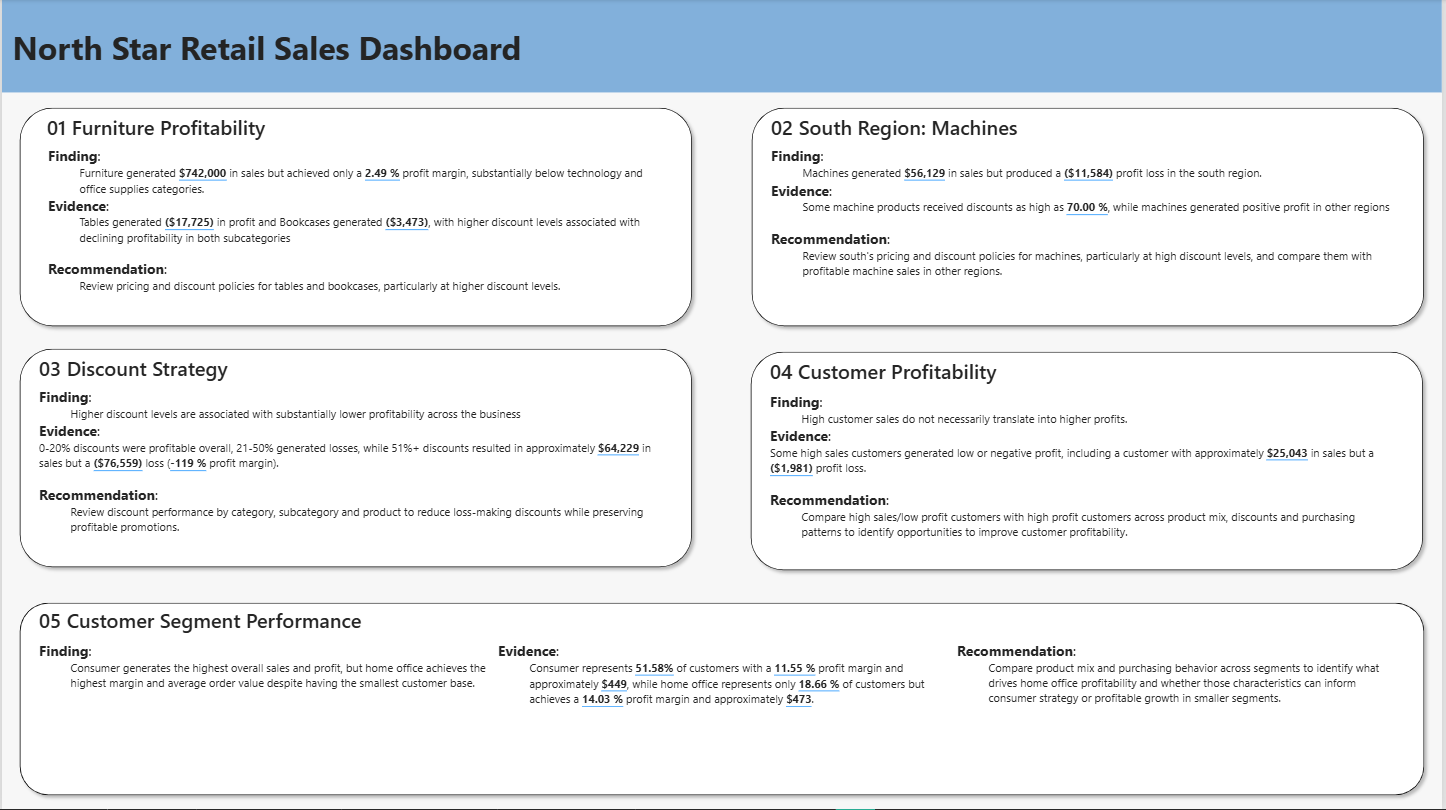

The dashboard page shown, as its layout file describes it:
{"tool":"powerbi","page":{"name":"Insights & Recommendations","canvas":[1920,1080],"ordinal":4},"visuals":[{"type":"shape","box":[0,0,1919.7,124.6],"z":0},{"type":"textbox","box":[0,35,706.7,75],"z":1000},{"type":"group","id":"g1","title":"Furniture Insight","box":[15,136.1,914.4,309.4],"z":2000},{"type":"group","id":"g2","title":"South Region Insight","box":[990.6,136.1,914.4,309.4],"z":3000},{"type":"group","id":"g3","title":"Discount Insight","box":[14.7,457.9,914.4,309.4],"z":4000},{"type":"group","id":"g4","title":"Customer Profitability Insight","box":[989.9,460.9,914.4,309.4],"z":4500},{"type":"shape","box":[14.7,795.8,1890.6,274.5],"z":5000,"group":"g5"},{"type":"textbox","box":[49,808.9,824.6,48],"z":6000,"group":"g5"},{"type":"textbox","box":[49,856.3,599.7,199.4],"z":7000,"group":"g5"},{"type":"shape","box":[15,136.1,914.4,309.4],"z":7125,"group":"g1"},{"type":"shape","box":[990.6,136.1,914.4,309.4],"z":7125,"group":"g2"},{"type":"shape","box":[14.7,457.9,914.4,309.4],"z":7125,"group":"g3"},{"type":"shape","box":[989.9,460.9,914.4,309.4],"z":7125,"group":"g4"},{"type":"textbox","box":[60.8,152.3,824.6,48],"z":7250,"group":"g1"},{"type":"textbox","box":[1025.3,152.5,824.6,48],"z":7250,"group":"g2"},{"type":"textbox","box":[49.4,474.3,824.6,48],"z":7250,"group":"g3"},{"type":"textbox","box":[1024.3,477.3,824.6,48],"z":7250,"group":"g4"},{"type":"textbox","box":[61.4,196.4,826.2,235.2],"z":7500,"group":"g1"},{"type":"textbox","box":[1025.9,196.7,826.2,235.2],"z":7500,"group":"g2"},{"type":"textbox","box":[50,518.5,826.2,235.2],"z":7500,"group":"g3"},{"type":"textbox","box":[1024.3,523.1,826.2,235.2],"z":7500,"group":"g4"},{"type":"textbox","box":[661,856.3,599.7,199.4],"z":9000,"group":"g5"},{"type":"textbox","box":[1272.9,856.3,599.7,199.4],"z":10000,"group":"g5"},{"type":"group","id":"g5","title":"Customer Segment Insight","box":[14.7,795.8,1890.6,274.5],"z":10001}]}

Visuals, with their boxes in screenshot pixels (x1, y1, x2, y2), scaled from the page's 1920x1080 canvas onto the 1446x810 screenshot:
shape: l=0, t=0, r=1445, b=93
textbox: l=0, t=26, r=532, b=82
"Furniture Insight" group: l=11, t=102, r=700, b=334
"South Region Insight" group: l=746, t=102, r=1435, b=334
"Discount Insight" group: l=11, t=343, r=700, b=575
"Customer Profitability Insight" group: l=746, t=346, r=1434, b=578
shape: l=11, t=597, r=1435, b=803
textbox: l=37, t=607, r=658, b=643
textbox: l=37, t=642, r=489, b=792
shape: l=11, t=102, r=700, b=334
shape: l=746, t=102, r=1435, b=334
shape: l=11, t=343, r=700, b=575
shape: l=746, t=346, r=1434, b=578
textbox: l=46, t=114, r=667, b=150
textbox: l=772, t=114, r=1393, b=150
textbox: l=37, t=356, r=658, b=392
textbox: l=771, t=358, r=1392, b=394
textbox: l=46, t=147, r=668, b=324
textbox: l=773, t=148, r=1395, b=324
textbox: l=38, t=389, r=660, b=565
textbox: l=771, t=392, r=1394, b=569
textbox: l=498, t=642, r=949, b=792
textbox: l=959, t=642, r=1410, b=792
"Customer Segment Insight" group: l=11, t=597, r=1435, b=803
